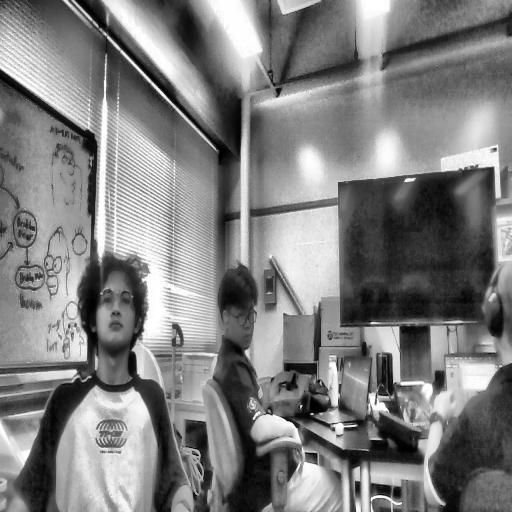Daifuku: (78, 253, 152, 356)
Not Daifuku: (215, 261, 259, 347), (481, 260, 512, 368)
